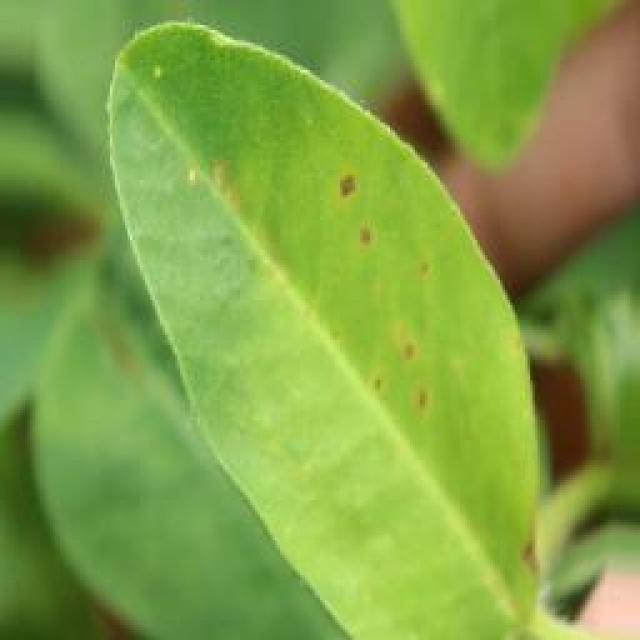Sigatoka: (326, 304, 446, 460), (175, 142, 281, 245), (322, 162, 401, 280), (394, 241, 453, 304), (508, 514, 548, 592)
